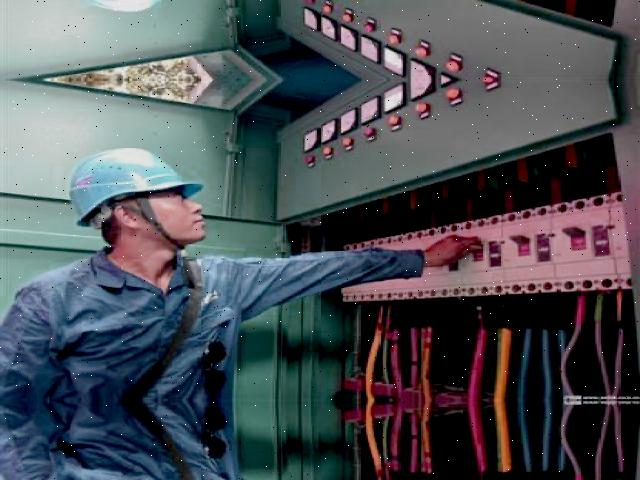Helmet: (64, 142, 204, 234)
